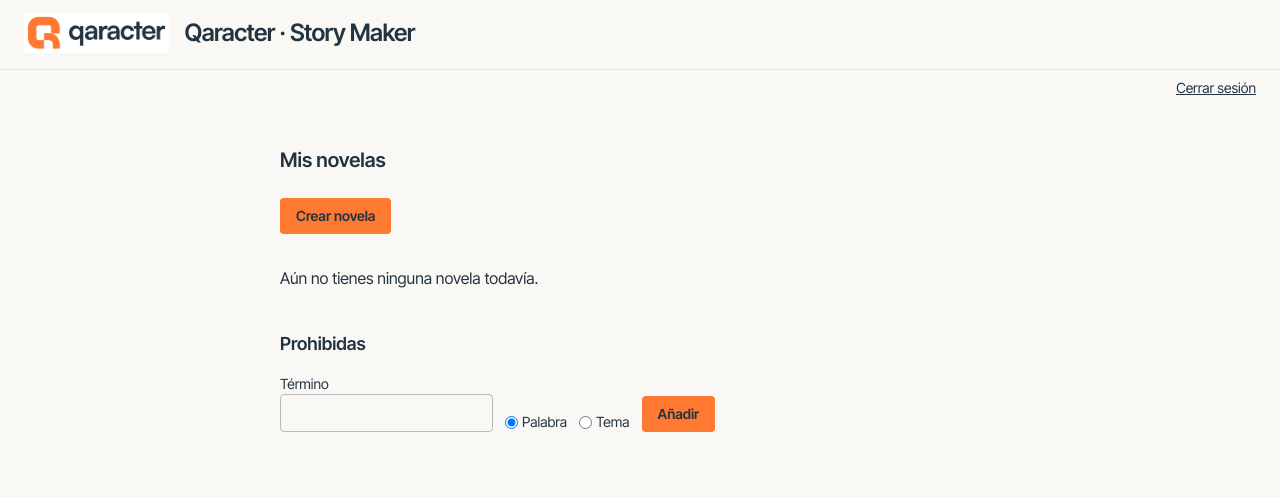
Scenario: 023 mis novelas › 023-C08: a failure creating a novel stays on "mis novelas" and re-enables the button
The image size is (1280, 497).
Click the button "Crear novela".
click(336, 216)  # box [280, 198, 391, 234]
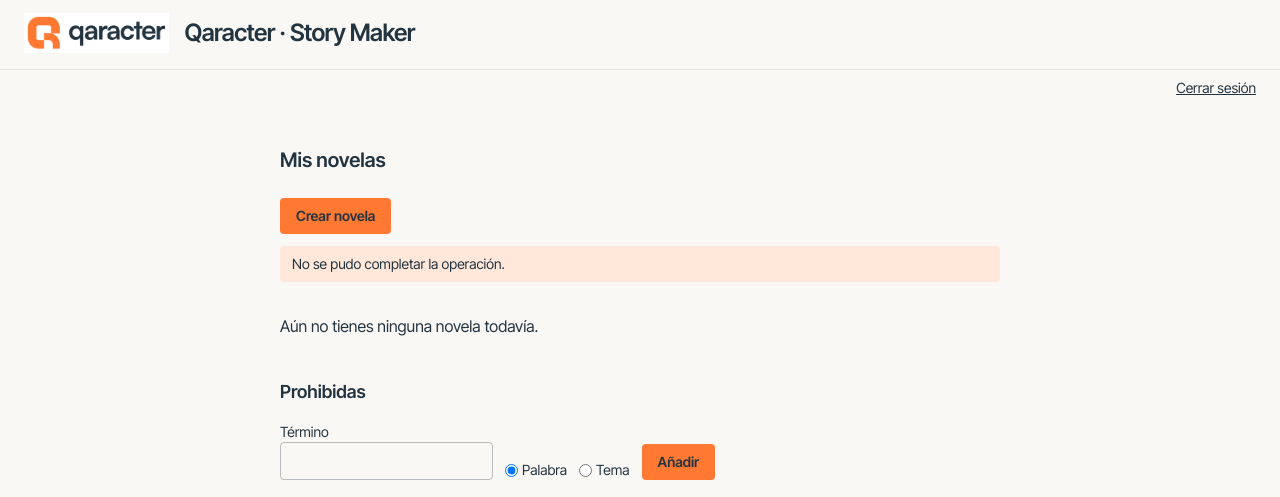
Check: the message shows "No se pudo completar", box [292, 255, 505, 272]
